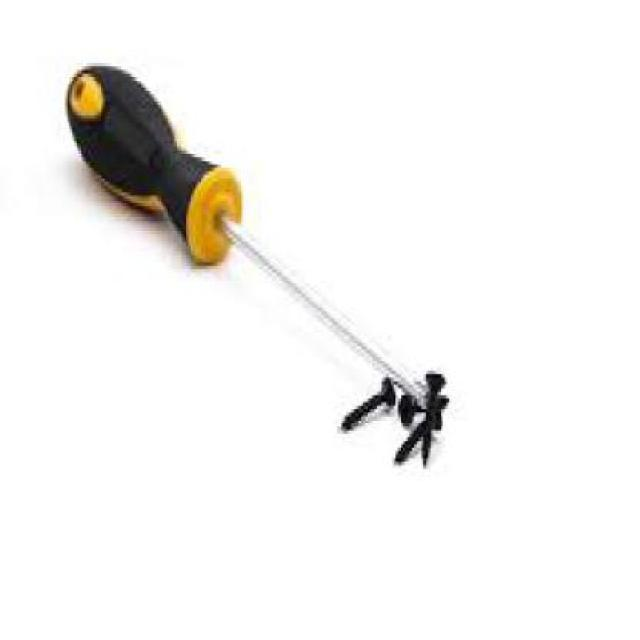screwdriver: (66, 62, 428, 413)
